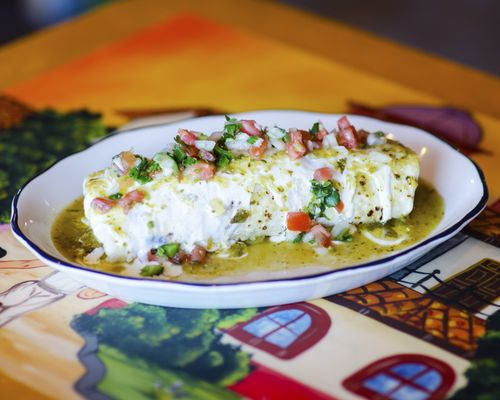curry: (0, 104, 107, 223)
